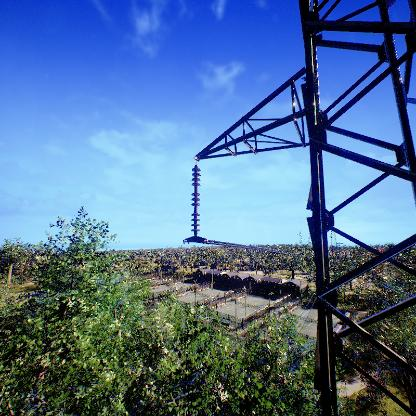insulator: (190, 166, 201, 235)
